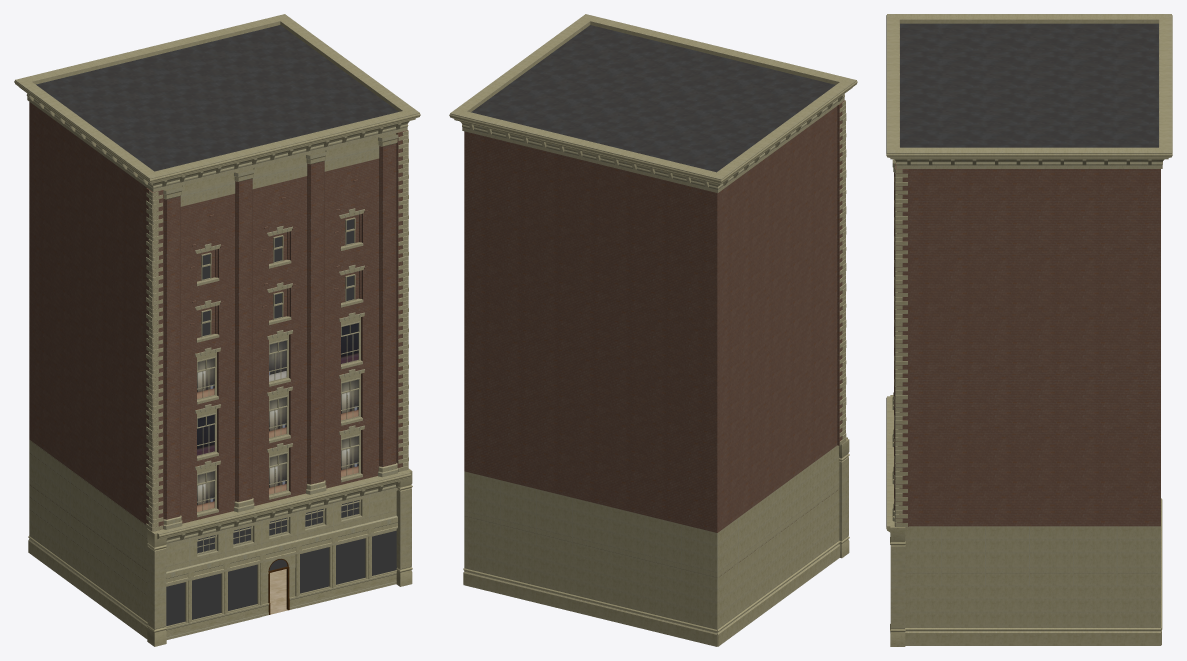
The model's file is building-2.glb.
3 renders of one model, left to right at view 1: azimuth 30°, elevation 25°; view 2: azimuth 150°, elevation 25°; view 3: azimuth 270°, elevation 25°, orthographic. The views are drawn at different scales.
Parts seen in each view (by area): view 1: Building_Medium_2.001; view 2: Building_Medium_2.001; view 3: Building_Medium_2.001.
Part boxes in pixels (x1,y1,x2,y2): Building_Medium_2.001: [14, 14, 420, 646]; Building_Medium_2.001: [449, 14, 857, 646]; Building_Medium_2.001: [886, 14, 1172, 646].
Size of what is drawn, in the model's own units: 15.06 by 25.01 by 13.06.
12 materials, 11 textured.
